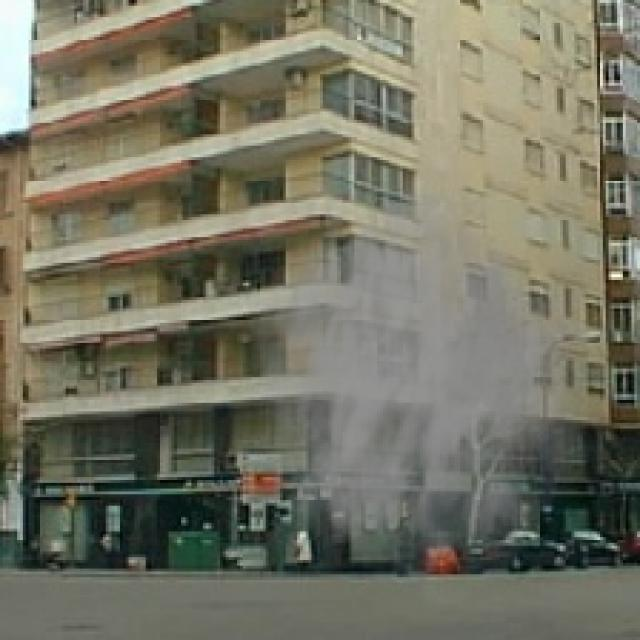Smoke: (246, 188, 603, 614)
